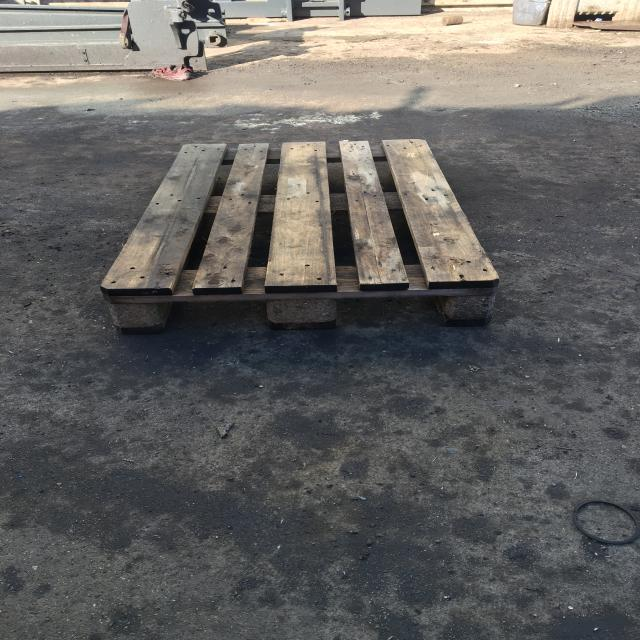block: (263, 287, 340, 330), (101, 288, 166, 333), (440, 289, 499, 324)
front: (103, 281, 504, 332)
